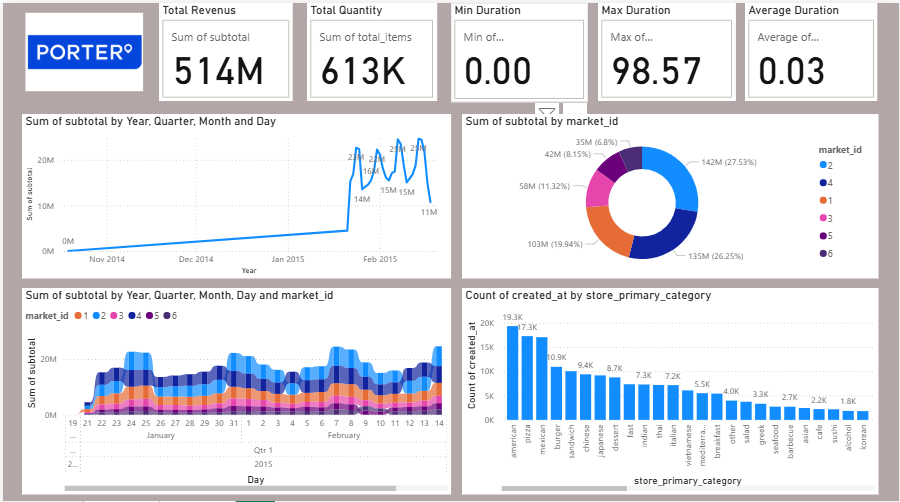

The page's visual inventory and layout, read from the dashboard file:
{"tool":"powerbi","page":{"name":"Page 1","canvas":[1280,720],"ordinal":0},"visuals":[{"type":"image","box":[26.5,0,178,140.1],"z":1},{"type":"cardVisual","title":"Average Duration","fields":{"Data":["Avg(portel_dataset (2).Delivery_Duration)"]},"box":[1060.4,0,189.3,140.1],"z":2},{"type":"lineChart","fields":{"Category":["portel_dataset (2).created_at.Variation.Date Hierarchy.Year","portel_dataset (2).created_at.Variation.Date Hierarchy.Quarter","portel_dataset (2).created_at.Variation.Date Hierarchy.Month","portel_dataset (2).created_at.Variation.Date Hierarchy.Day"],"Y":["Sum(portel_dataset (2).subtotal)"]},"box":[26.5,159.1,613.5,234.8],"z":3},{"type":"cardVisual","title":"Total Revenus","fields":{"Data":["Sum(portel_dataset (2).subtotal)"]},"box":[223.4,0,191.2,140.1],"z":4},{"type":"cardVisual","title":"Total Quantity","fields":{"Data":["Sum(portel_dataset (2).total_items)"]},"box":[433.6,0,185.6,140.1],"z":5},{"type":"cardVisual","title":"Min Duration","fields":{"Data":["Min(portel_dataset (2).Delivery_Duration)"]},"box":[640,0,195,142],"z":6},{"type":"cardVisual","title":"Max Duration","fields":{"Data":["Max(portel_dataset (2).Delivery_Duration)"]},"box":[850.2,0,196.9,140.1],"z":7},{"type":"donutChart","fields":{"Category":["portel_dataset (2).market_id"],"Y":["Sum(portel_dataset (2).subtotal)"]},"box":[655.1,159.1,594.6,234.8],"z":8},{"type":"ribbonChart","fields":{"Category":["portel_dataset (2).created_at.Variation.Date Hierarchy.Year","portel_dataset (2).created_at.Variation.Date Hierarchy.Quarter","portel_dataset (2).created_at.Variation.Date Hierarchy.Month","portel_dataset (2).created_at.Variation.Date Hierarchy.Day"],"Y":["Sum(portel_dataset (2).subtotal)"],"Series":["portel_dataset (2).market_id"]},"box":[26.5,407.1,613.5,295.4],"z":9},{"type":"columnChart","fields":{"Category":["portel_dataset (2).store_primary_category"],"Y":["CountNonNull(portel_dataset (2).created_at)"]},"box":[655.1,407.1,594.6,295.4],"z":10}]}

Visuals, with their boxes in screenshot pixels (x1, y1, x2, y2), scaled from the page's 1280x720 canvas onto the 900x502 screenshot:
image: 19:0:144:98
"Average Duration" cardVisual: 746:0:879:98
lineChart - portel_dataset (2).created_at.Variation.Date Hierarchy.Year x portel_dataset (2).created_at.Variation.Date Hierarchy.Quarter: 19:111:450:275
"Total Revenus" cardVisual: 157:0:292:98
"Total Quantity" cardVisual: 305:0:435:98
"Min Duration" cardVisual: 450:0:587:99
"Max Duration" cardVisual: 598:0:736:98
donutChart - portel_dataset (2).market_id x Sum(portel_dataset (2).subtotal): 461:111:879:275
ribbonChart - portel_dataset (2).created_at.Variation.Date Hierarchy.Year x portel_dataset (2).created_at.Variation.Date Hierarchy.Quarter: 19:284:450:490
columnChart - portel_dataset (2).store_primary_category x CountNonNull(portel_dataset (2).created_at): 461:284:879:490
